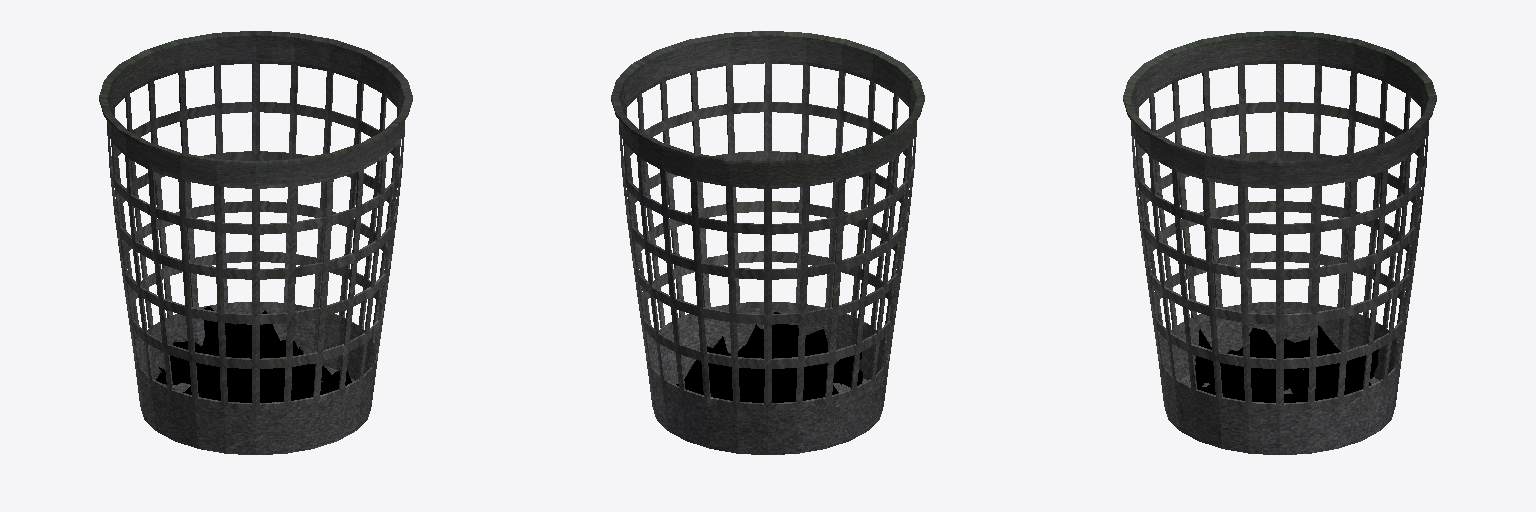
The picture shows the model from 3 angles: view 1: azimuth 30°, elevation 25°; view 2: azimuth 150°, elevation 25°; view 3: azimuth 270°, elevation 25°; orthographic projection.
Visible parts, largest first — view 1: bin1:Cylinder03, bin1:Plane02, bin1:Plane01; view 2: bin1:Cylinder03, bin1:Plane02, bin1:Plane01; view 3: bin1:Cylinder03, bin1:Plane02, bin1:Plane01.
Part boxes in pixels (left/top/right/bottom): bin1:Cylinder03: left=99, top=31, right=412, bottom=454; bin1:Plane02: left=159, top=306, right=328, bottom=402; bin1:Plane01: left=156, top=340, right=351, bottom=401; bin1:Cylinder03: left=611, top=31, right=924, bottom=454; bin1:Plane02: left=693, top=312, right=861, bottom=402; bin1:Plane01: left=653, top=346, right=862, bottom=403; bin1:Cylinder03: left=1123, top=31, right=1436, bottom=454; bin1:Plane02: left=1195, top=325, right=1378, bottom=401; bin1:Plane01: left=1195, top=365, right=1370, bottom=402.
Bounding box in the file's own units: 1.03 × 1.15 × 1.03.
Materials: 3 (1 with a texture image).